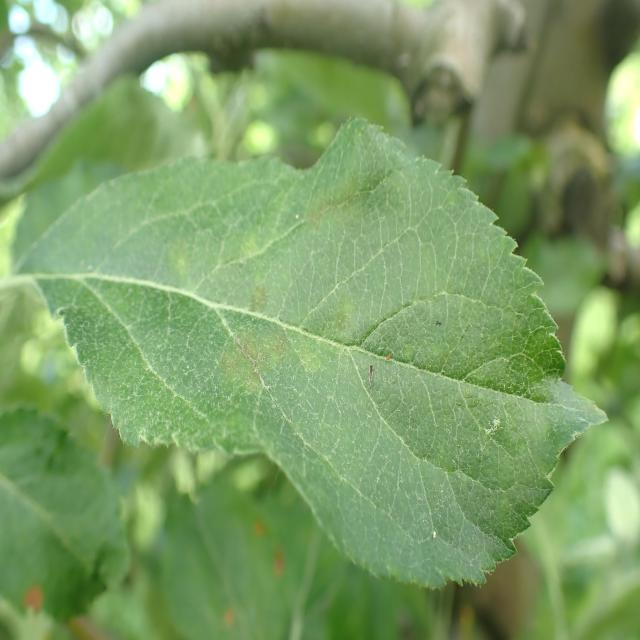scab: (77, 156, 513, 504)
